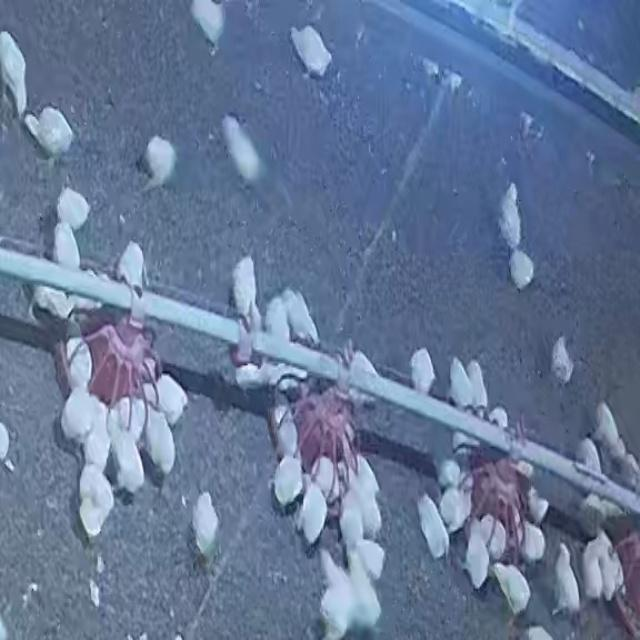chicken: (316, 548, 358, 638), (340, 550, 383, 636), (76, 464, 116, 544), (107, 420, 148, 498), (220, 114, 263, 186), (22, 105, 75, 161), (348, 458, 383, 536), (0, 30, 29, 119), (59, 386, 102, 446), (490, 560, 532, 620), (143, 406, 177, 478), (190, 490, 220, 566), (416, 492, 449, 561), (345, 348, 384, 406), (290, 24, 332, 77), (550, 542, 580, 616), (230, 254, 260, 328), (139, 135, 177, 192), (282, 288, 320, 344), (462, 520, 493, 588), (152, 373, 190, 428), (108, 395, 145, 451), (297, 482, 328, 546), (272, 454, 306, 510), (31, 284, 78, 324), (337, 489, 365, 556), (189, 1, 226, 50), (580, 533, 606, 601), (86, 272, 128, 314), (591, 401, 623, 456), (116, 239, 148, 293), (83, 419, 114, 473), (597, 536, 622, 602), (498, 181, 522, 249), (56, 185, 91, 230), (66, 336, 94, 392), (447, 356, 473, 416), (438, 485, 468, 536), (352, 537, 386, 581), (52, 224, 82, 272), (431, 451, 465, 493), (265, 295, 291, 349), (274, 404, 299, 458), (309, 455, 336, 504), (409, 347, 436, 395), (550, 334, 574, 385), (466, 358, 489, 411), (482, 516, 506, 562), (525, 481, 550, 525), (508, 249, 534, 291), (520, 521, 546, 563), (575, 437, 602, 476), (617, 451, 640, 490), (488, 407, 508, 430)
